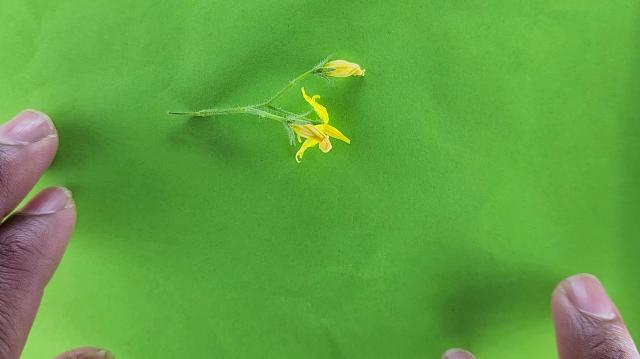Anthesis: (292, 87, 353, 162), (308, 58, 369, 86)
